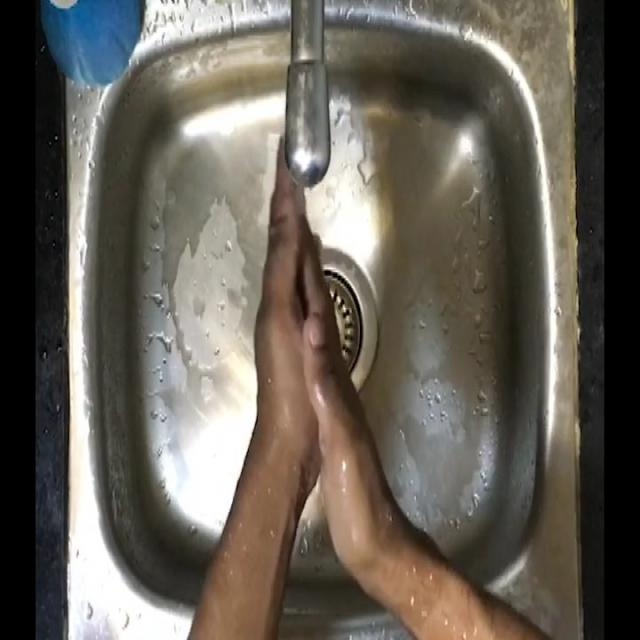step_1: (234, 105, 358, 438)
